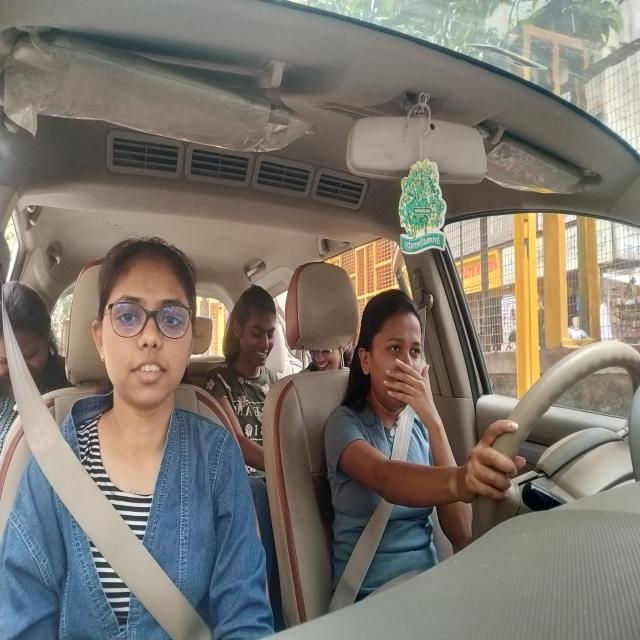drowsy: (358, 294, 432, 417)
person: (92, 233, 192, 404), (6, 286, 56, 382), (232, 284, 278, 372), (306, 336, 355, 370)
